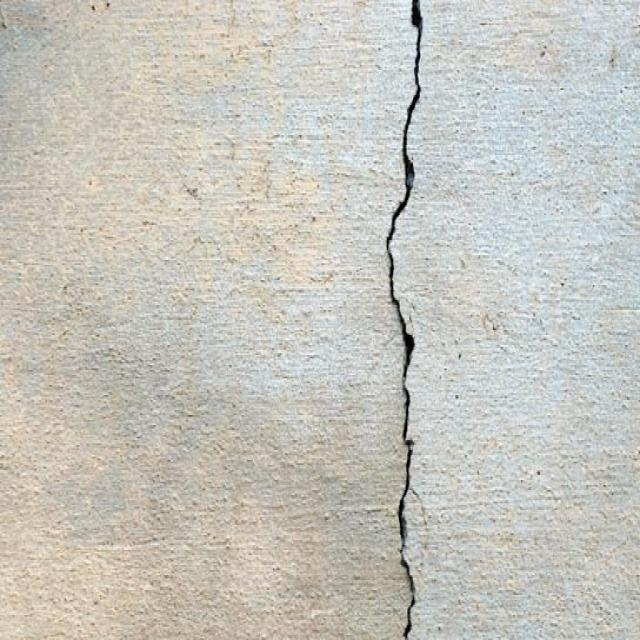crack: (385, 1, 428, 638)
